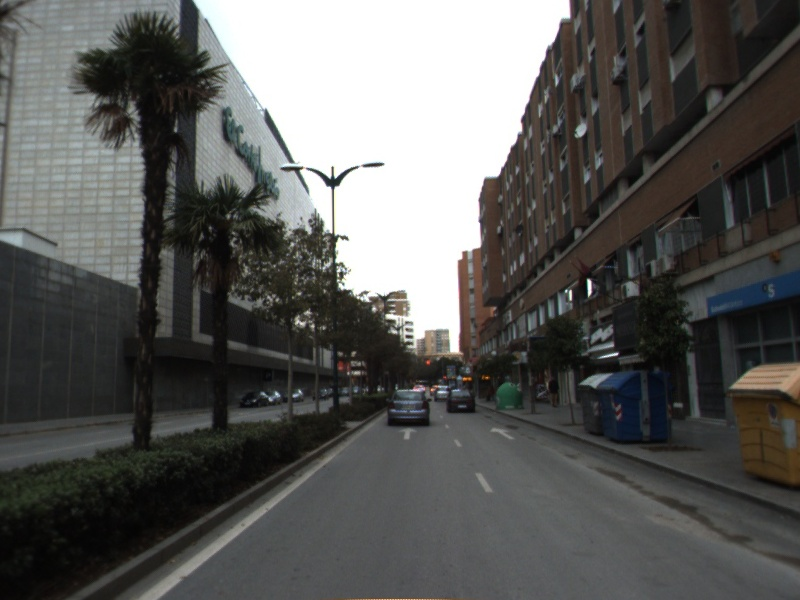STRAIGHT: (488, 425, 517, 441), (397, 426, 420, 441)
